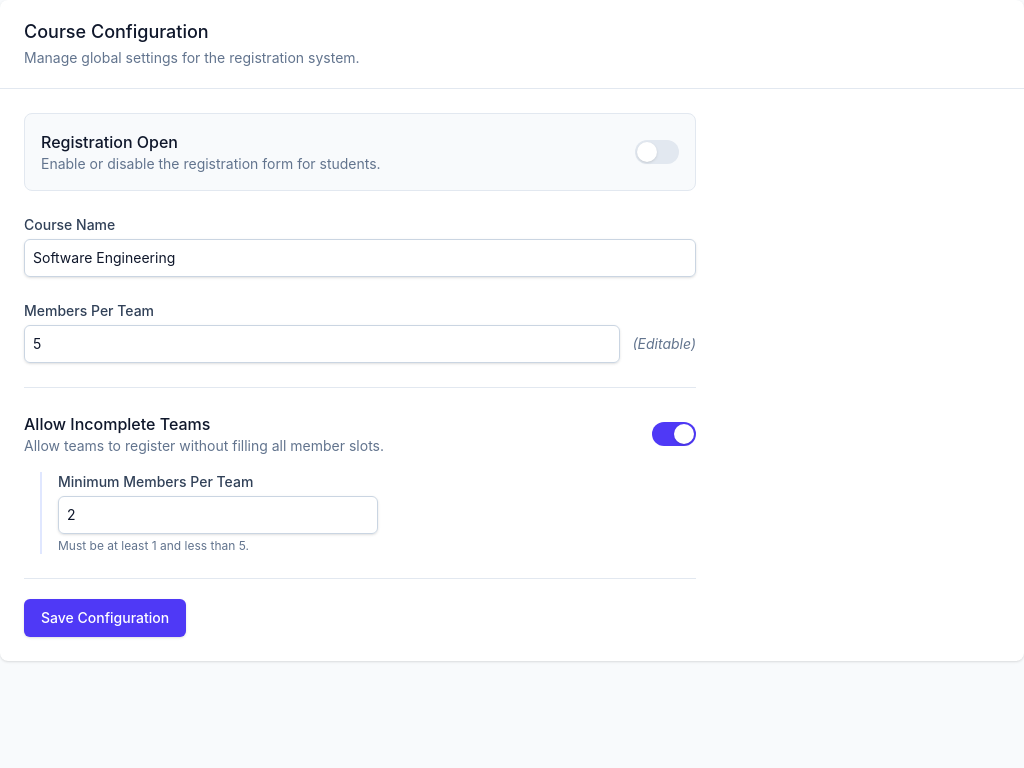
Scenario: ConfigPanel › toggling allow_incomplete_teams off hides min members field
The image size is (1024, 768).
Check: the number field labelled "Minimum Members Per Team" is shown, box [58,496,378,534]
Click the button named "Toggle incomplete teams" in the row of "Allow Incomplete Teams": {"x": 674, "y": 434} [652,422,696,446]
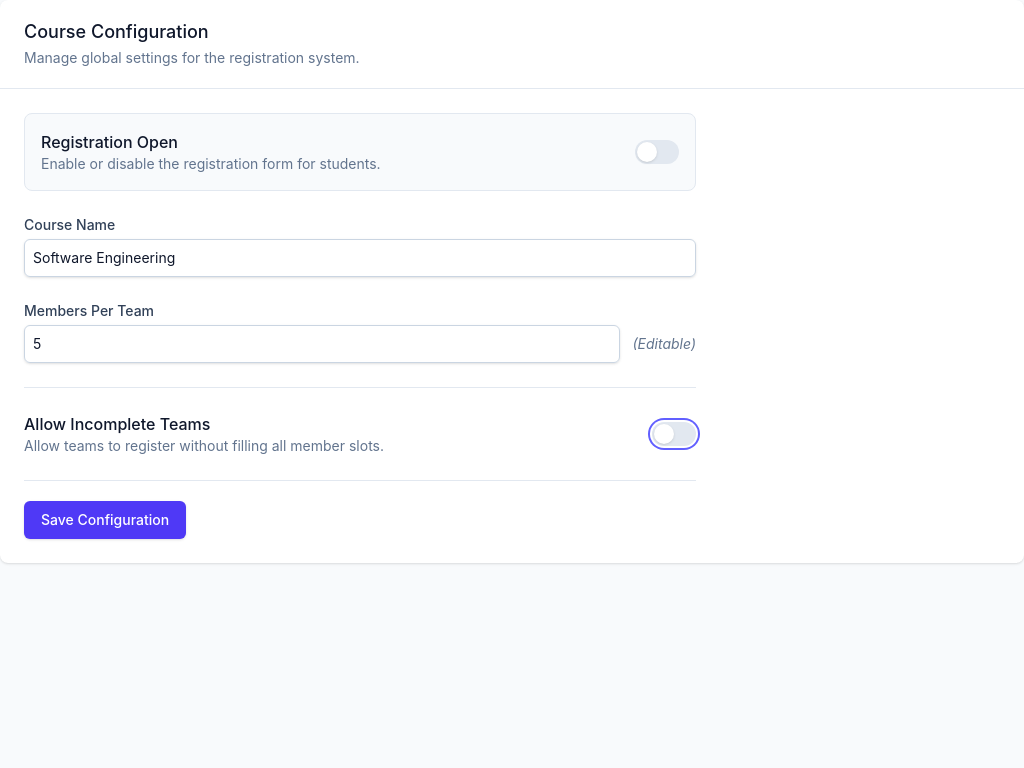
Check: the label labelled "Minimum Members Per Team" is gone
